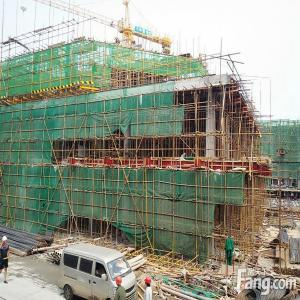red: (145, 276, 153, 288), (116, 278, 123, 289)
white: (2, 237, 8, 247)
